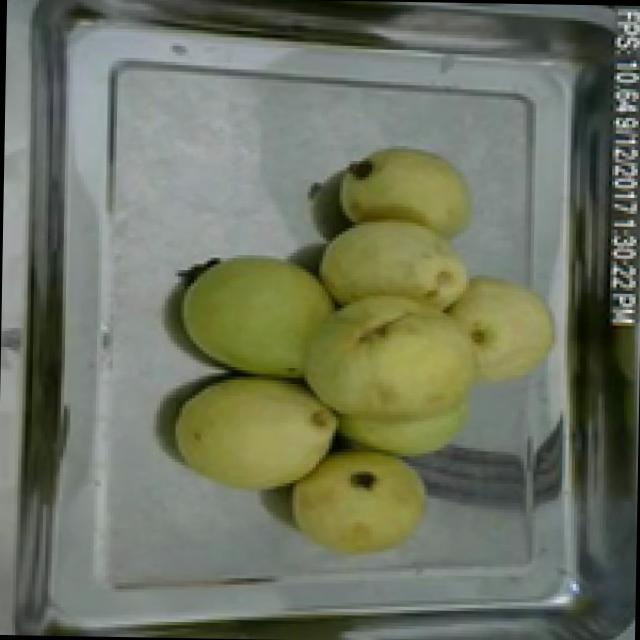Fruit: (296, 207, 562, 468), (163, 362, 344, 503), (172, 244, 346, 388), (278, 434, 442, 578), (328, 141, 480, 246)
